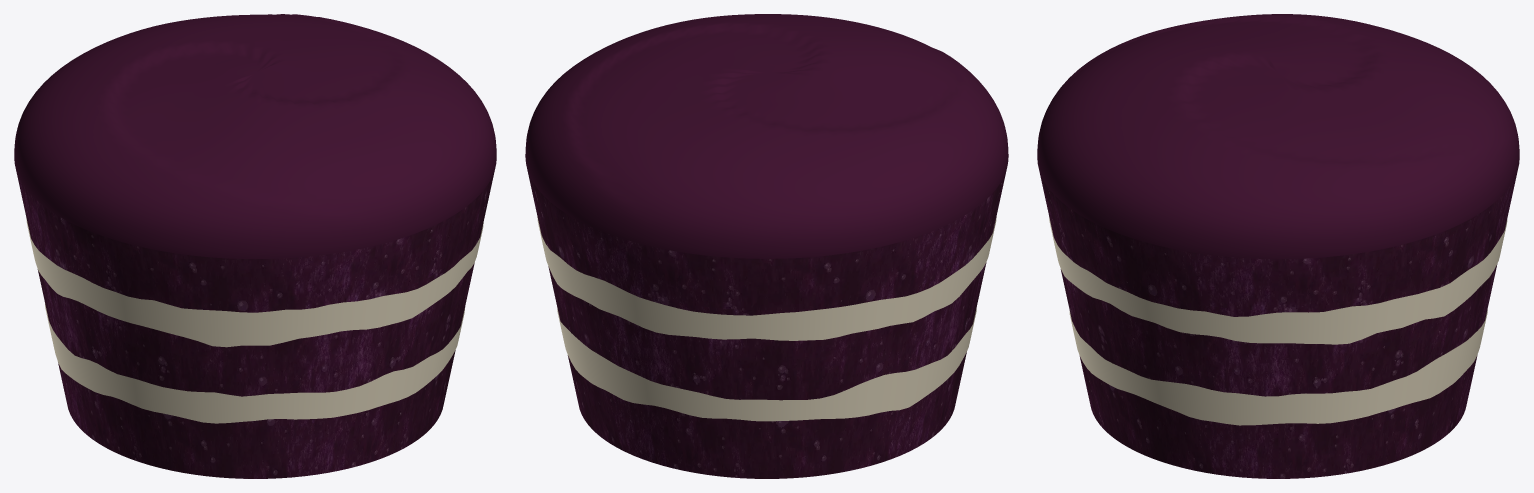
File: base-acai-pote-530.glb
The picture shows the model from 3 angles, left to right: view 1: azimuth 30°, elevation 25°; view 2: azimuth 150°, elevation 25°; view 3: azimuth 270°, elevation 25°; orthographic projection.
Parts seen in each view (by area): view 1: base-acai-pote-530, base-acai-pote-530-camada-2, base-acai-pote-530-camada-1; view 2: base-acai-pote-530, base-acai-pote-530-camada-2, base-acai-pote-530-camada-1; view 3: base-acai-pote-530, base-acai-pote-530-camada-2, base-acai-pote-530-camada-1.
Boxes of the visible parts, <box> form: base-acai-pote-530: <box>14,14,496,478</box>; base-acai-pote-530-camada-2: <box>26,218,483,347</box>; base-acai-pote-530-camada-1: <box>45,303,465,423</box>; base-acai-pote-530: <box>525,14,1008,478</box>; base-acai-pote-530-camada-2: <box>537,216,996,340</box>; base-acai-pote-530-camada-1: <box>557,308,976,421</box>; base-acai-pote-530: <box>1037,14,1519,478</box>; base-acai-pote-530-camada-2: <box>1049,216,1507,344</box>; base-acai-pote-530-camada-1: <box>1069,309,1487,425</box>.
Size of the model in its own units: 0.1122 by 0.0846 by 0.1122.
Materials: 3 (1 with a texture image).
